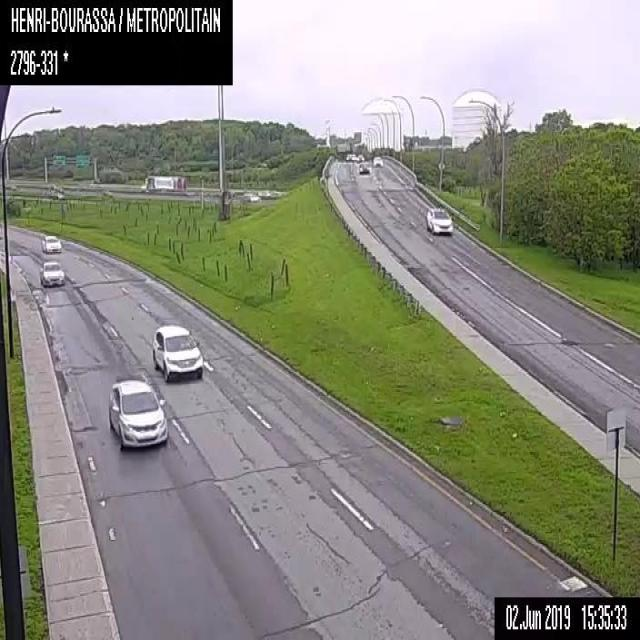vehicle: (108, 376, 166, 448), (150, 321, 204, 380), (138, 173, 189, 192), (425, 206, 452, 233), (40, 258, 64, 286), (42, 233, 61, 252), (358, 162, 369, 173), (372, 156, 382, 167), (356, 153, 364, 162)
